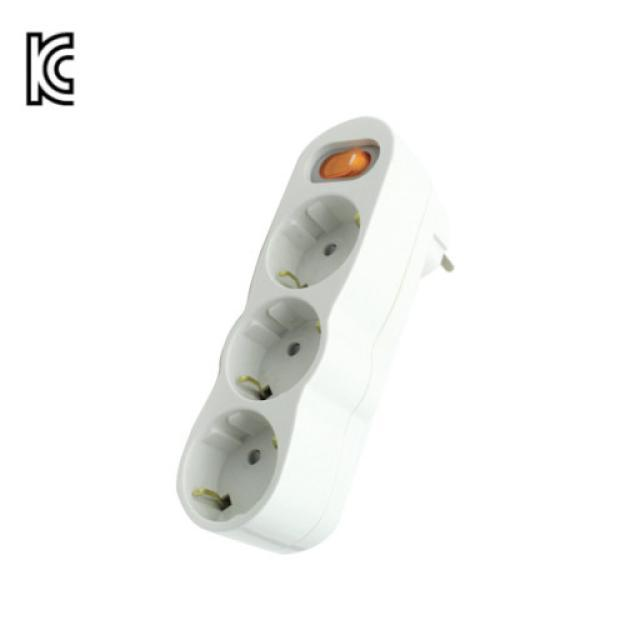typeb: (134, 45, 473, 610)
